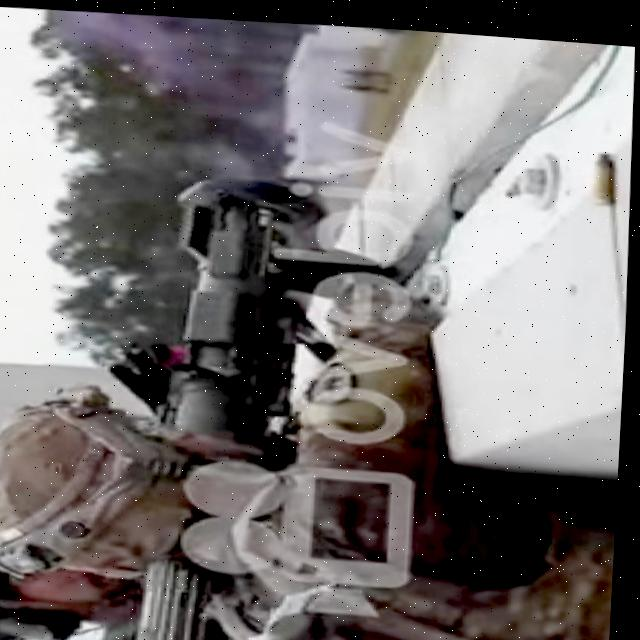rocket: (126, 165, 338, 640)
